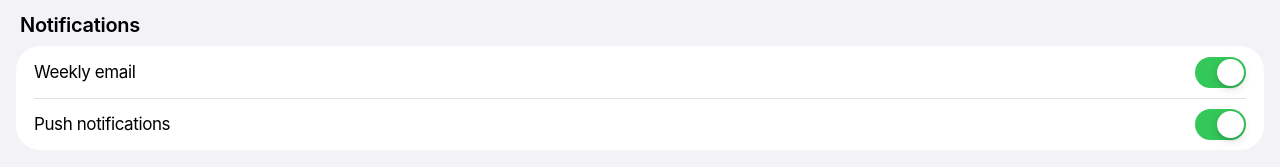
Scenario: NotificationsSection: push on this device › turns push off for the member and this device
Click the switch named "Push notifications" at x=1220, y=124, box 1195,108 -> 1246,140
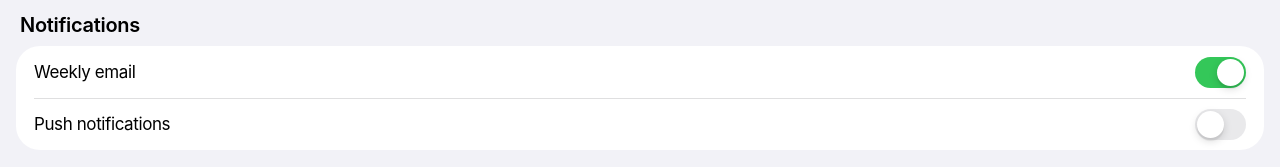
Expected: the switch named "Push notifications" is not checked, 1195,108 -> 1246,140
